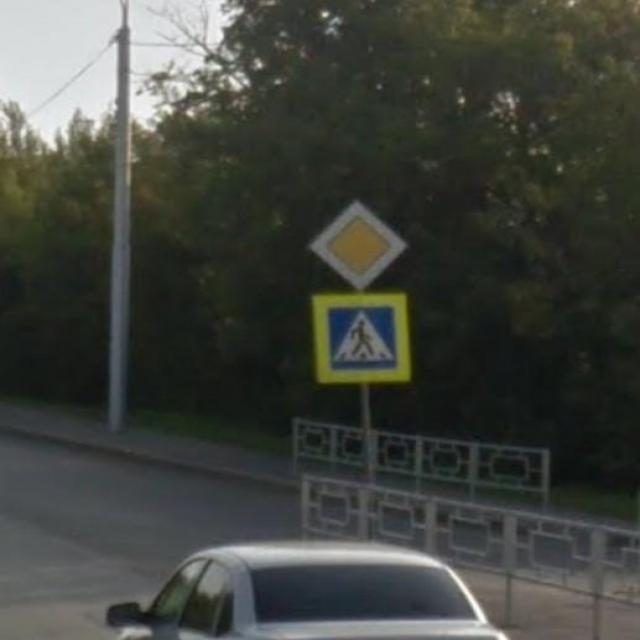traffic_sign: (302, 192, 418, 300), (312, 292, 410, 384)
